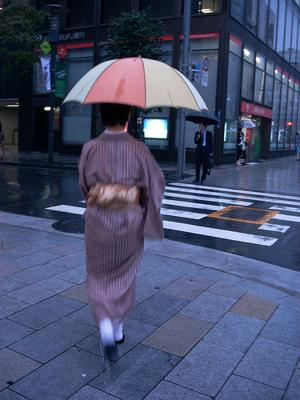person: (78, 102, 166, 362)
